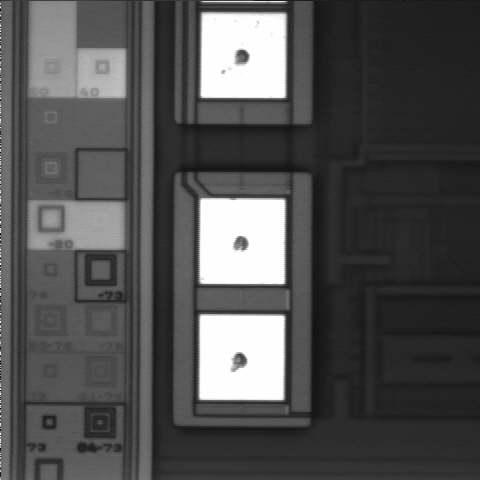pad: (200, 198, 285, 284), (201, 13, 286, 98), (199, 315, 284, 400)
